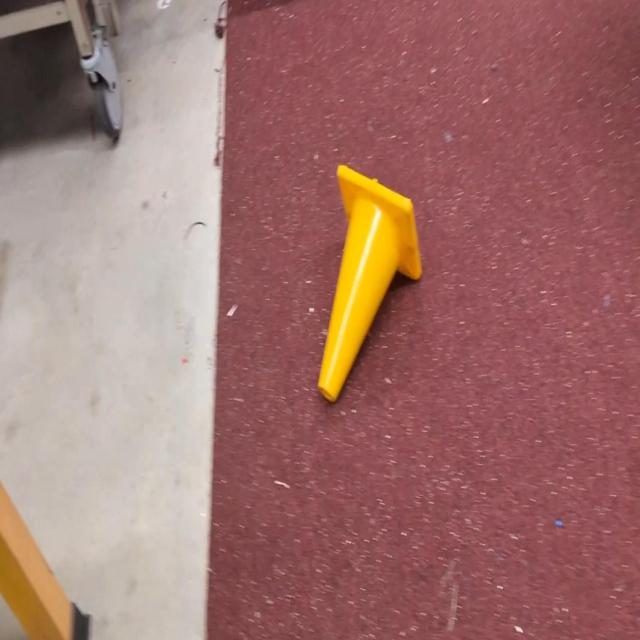frc_cone: (316, 162, 422, 405)
